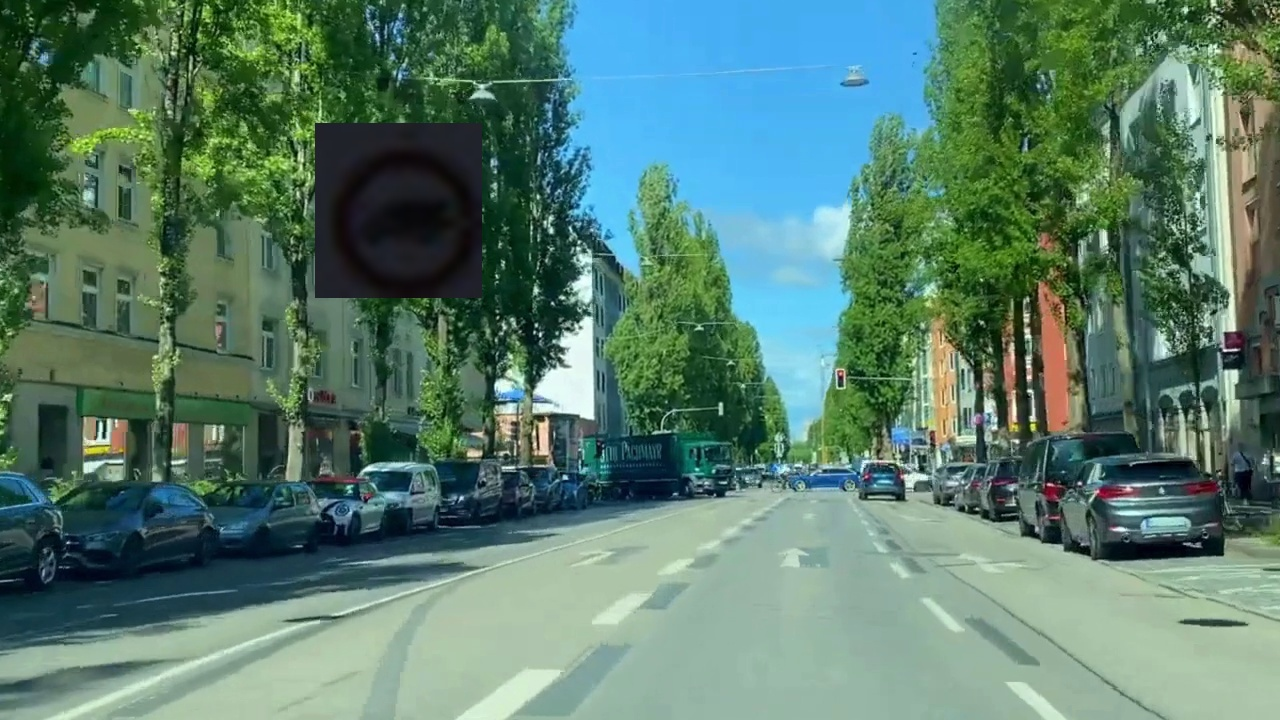Veh >3.5t prohib: (315, 123, 482, 298)
